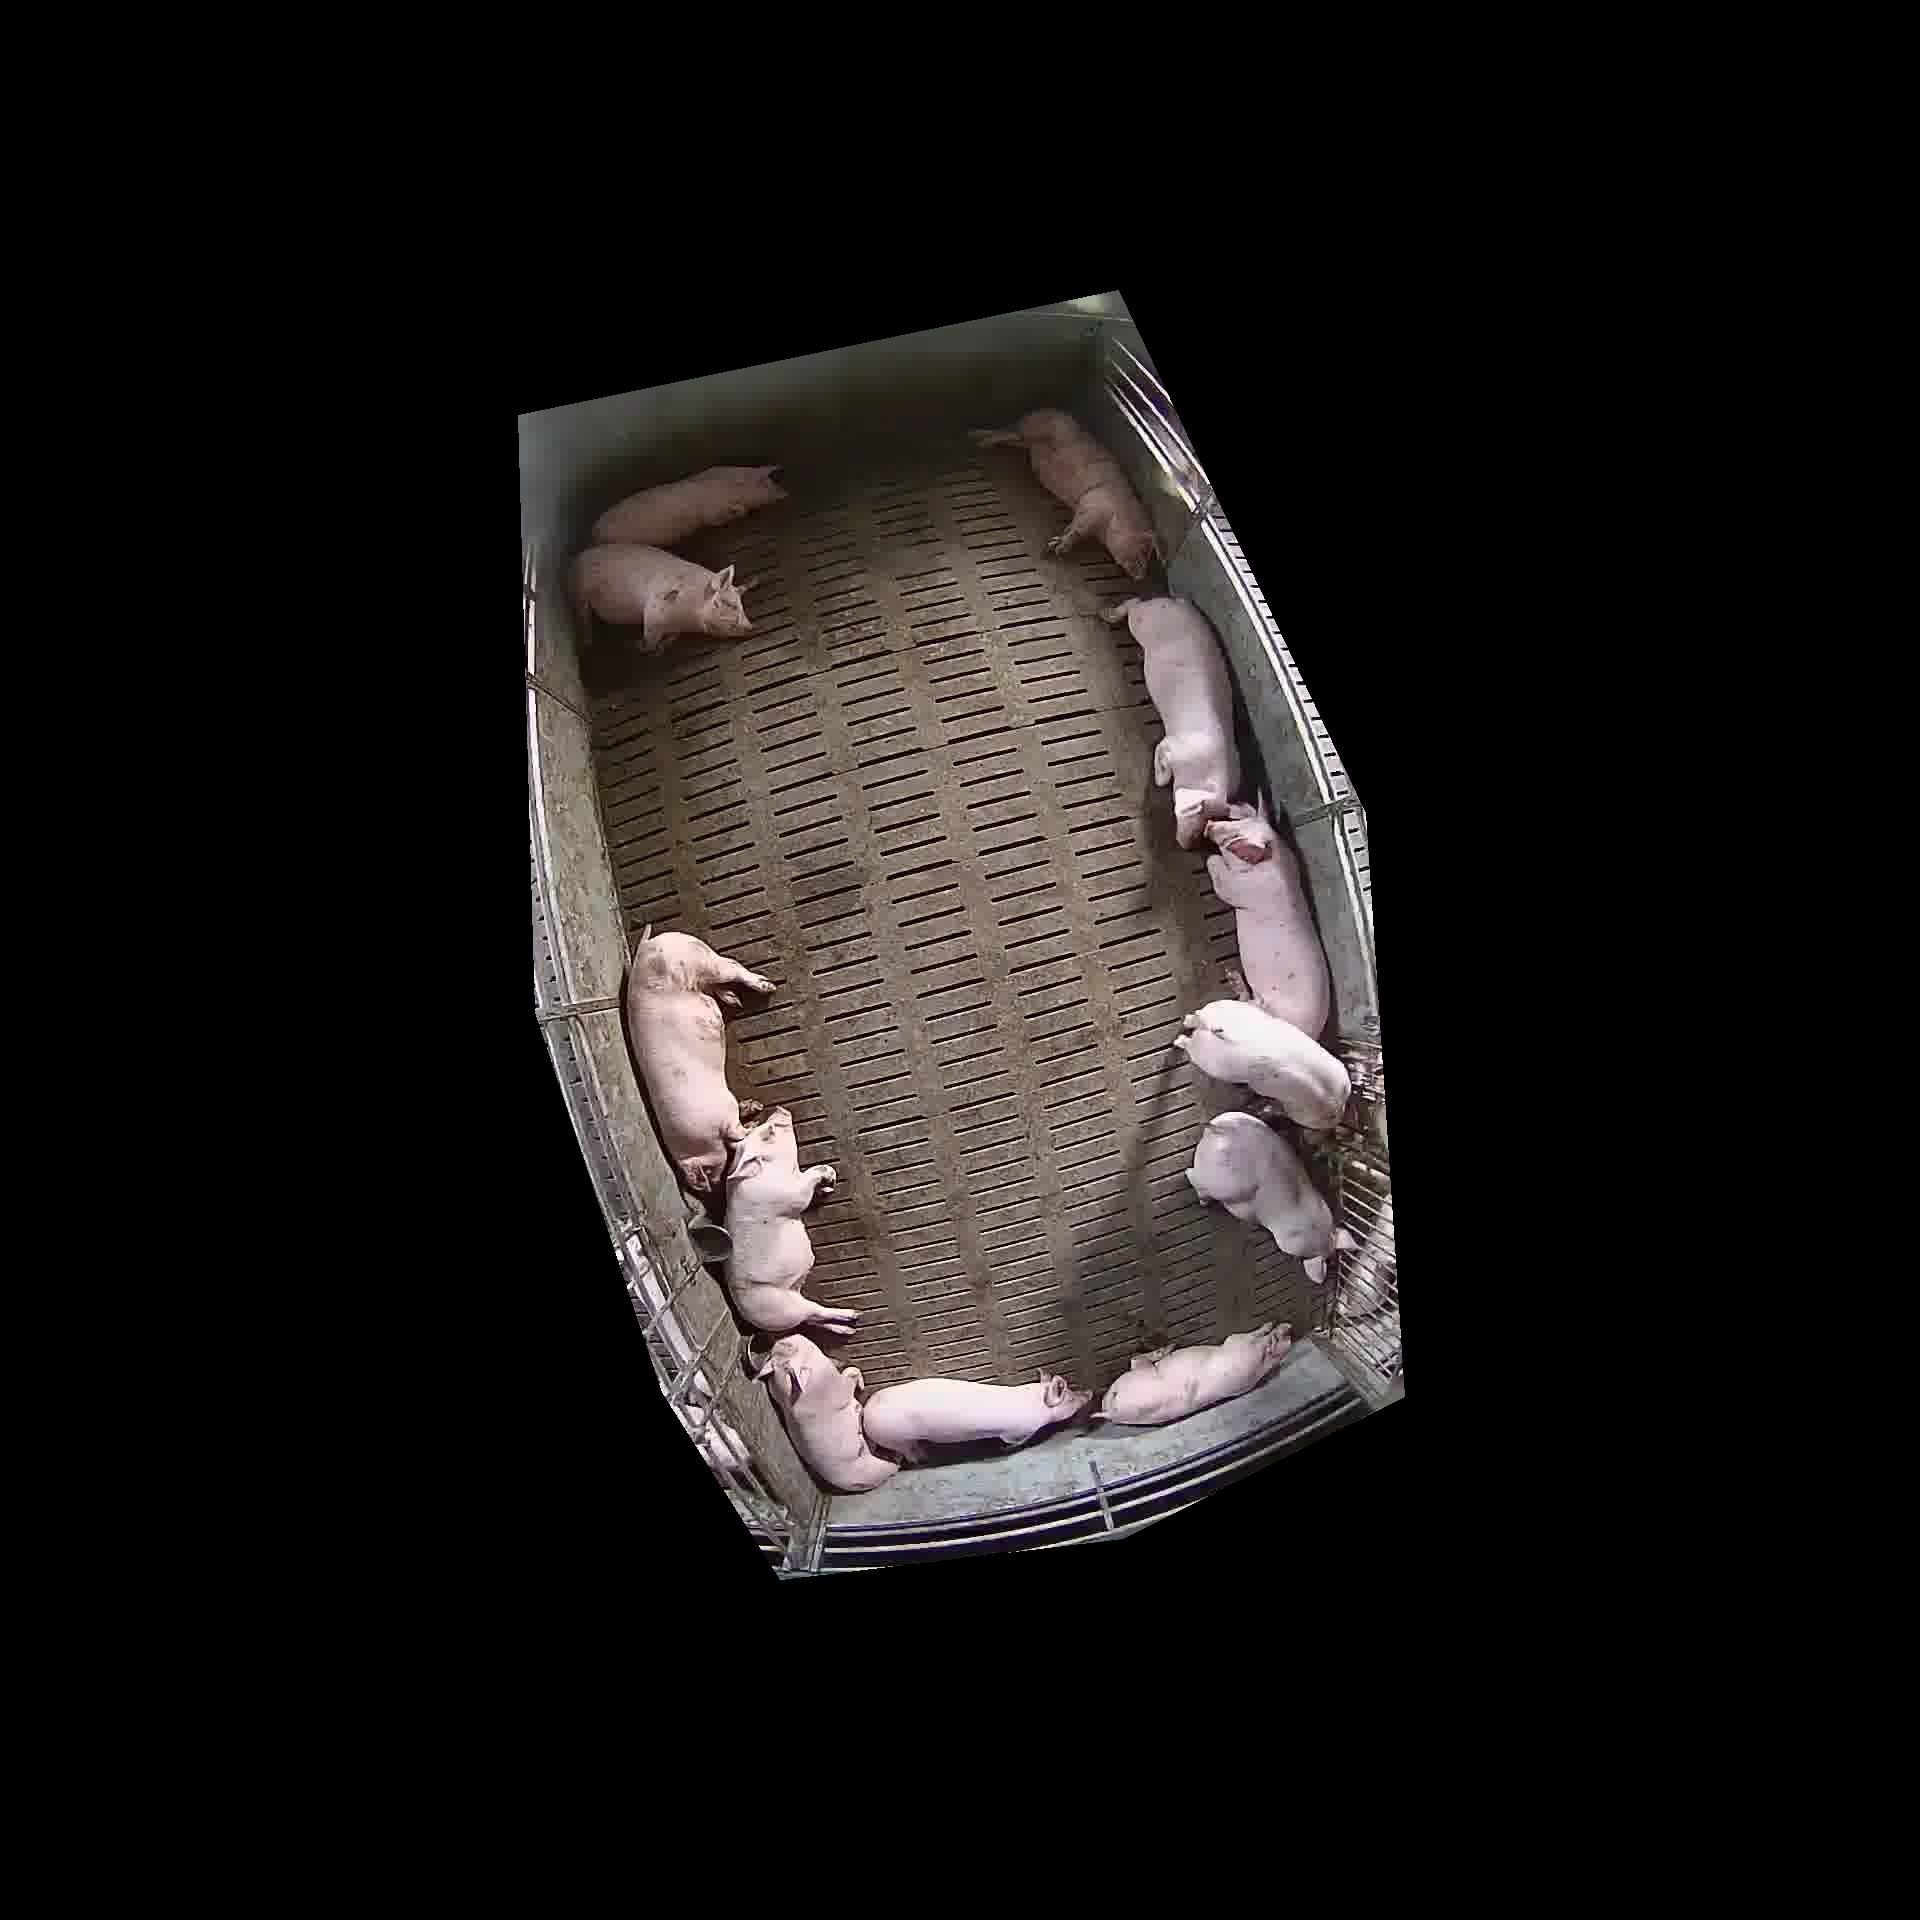pig: (626, 927, 774, 1194), (1104, 598, 1240, 849), (971, 410, 1155, 578), (724, 1108, 856, 1333), (1206, 804, 1329, 1037), (1187, 1111, 1335, 1284), (1176, 1000, 1350, 1129), (760, 1335, 898, 1491), (1095, 1322, 1291, 1424), (571, 543, 751, 652), (863, 1373, 1090, 1459), (593, 466, 784, 547)
